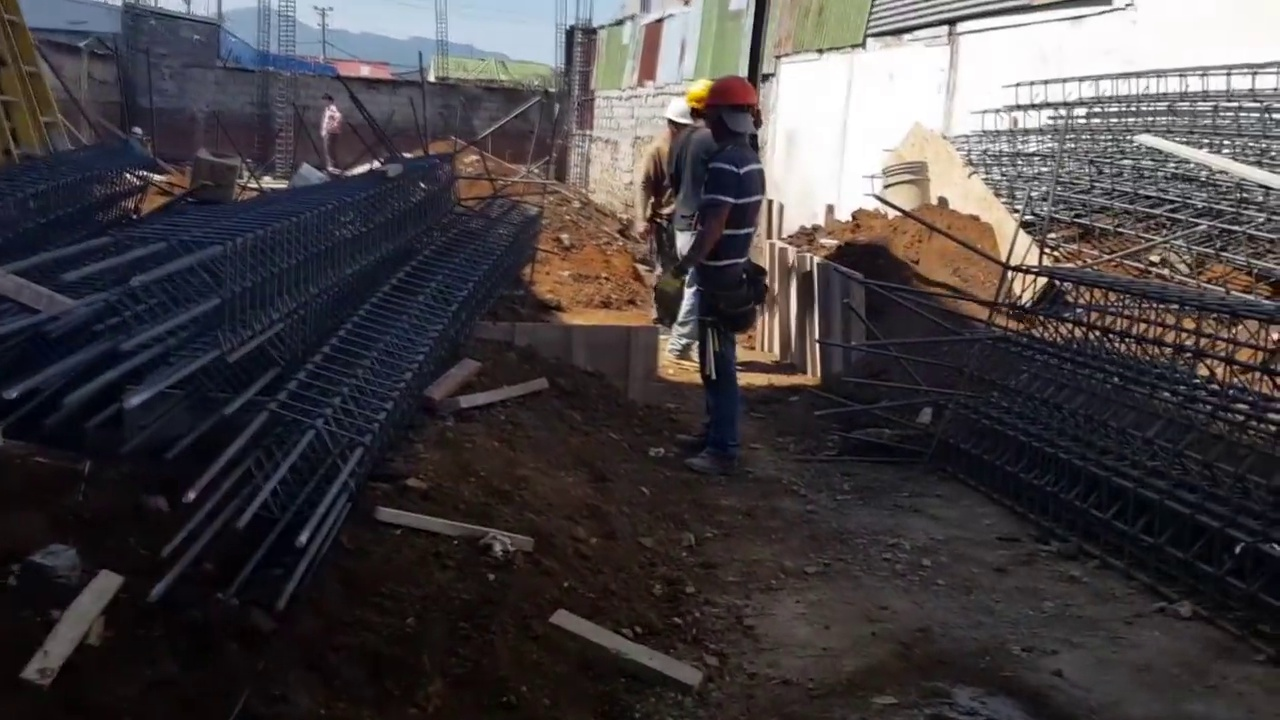helmet: (705, 76, 757, 108), (663, 96, 697, 126), (683, 79, 713, 110)
helmet-off: (322, 94, 335, 108)
helmet-on: (705, 75, 759, 155), (660, 96, 698, 141), (683, 79, 714, 125)
person: (681, 70, 766, 449), (634, 86, 699, 277), (315, 97, 350, 174)
